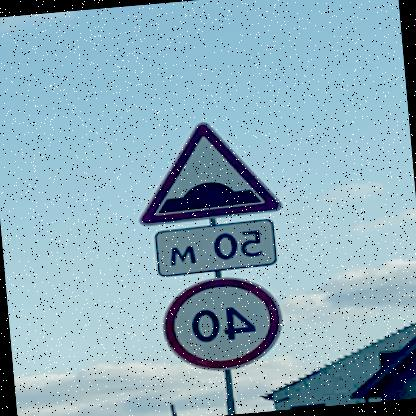speedlimit: (160, 272, 290, 374)
